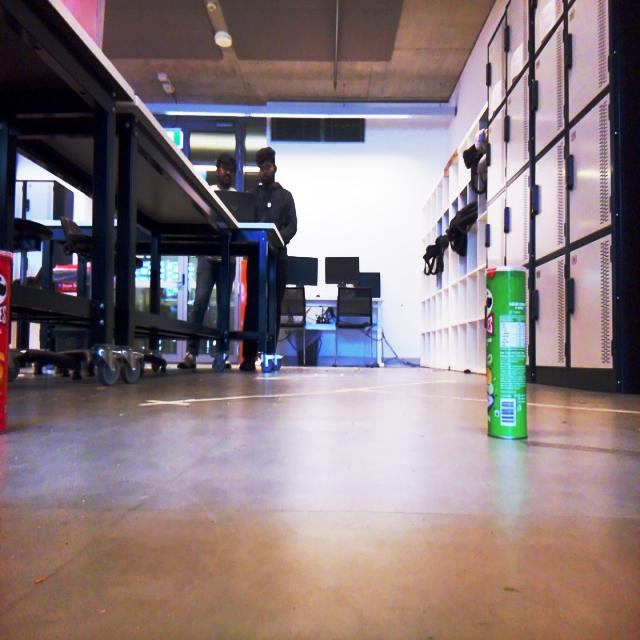greenpringles: (474, 240, 539, 458)
redpringles: (1, 247, 23, 444)
